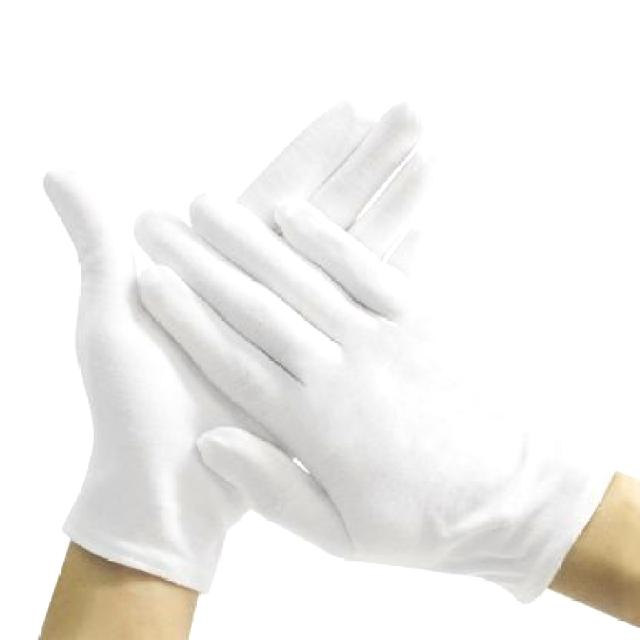hand_glove: (40, 90, 462, 548), (131, 188, 518, 572)
